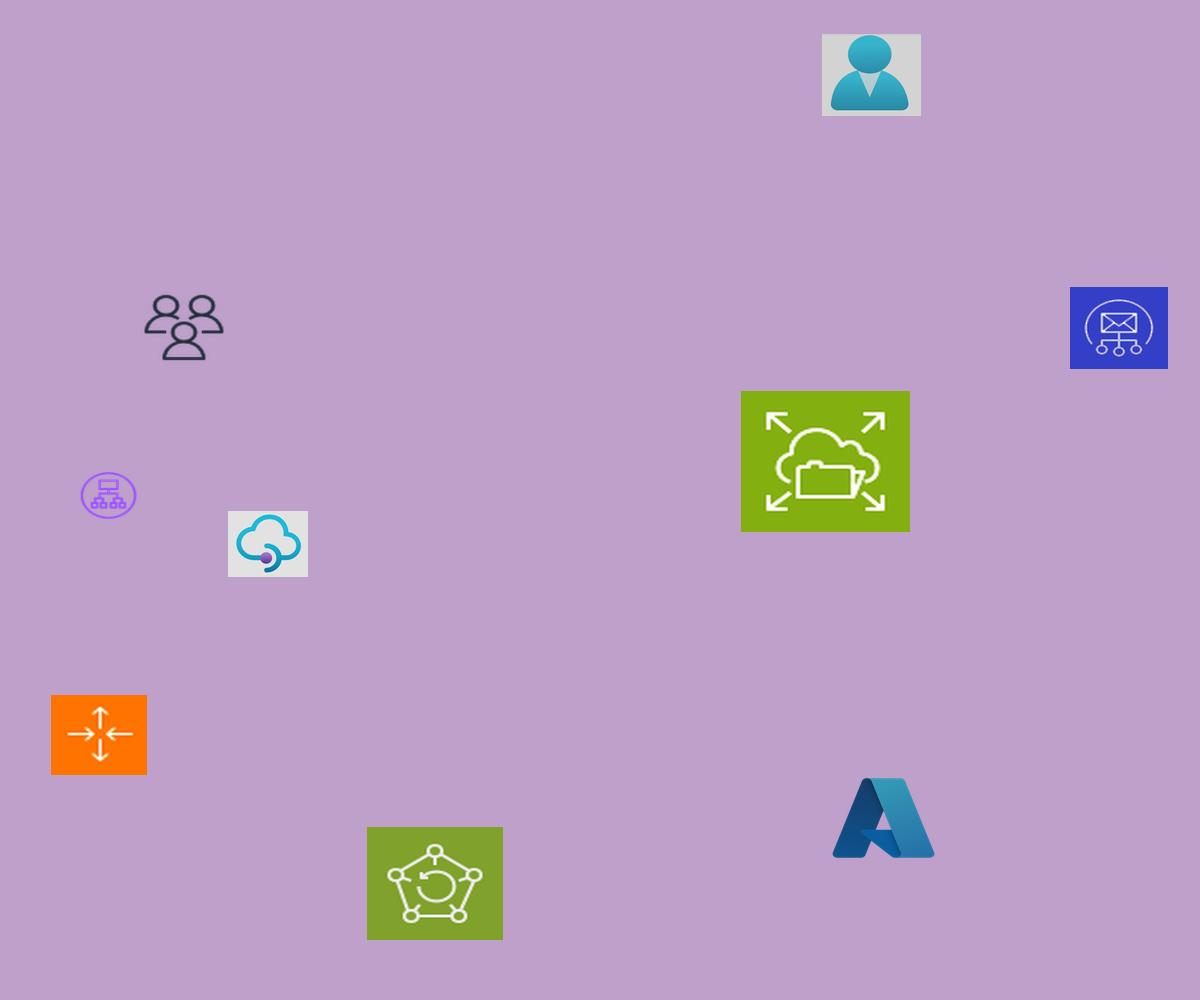AWS-Backup: (367, 827, 503, 940)
AWS-EFS: (741, 391, 910, 532)
AWS-Res_Elastic-Load-Balancing_Application-Load-Balancer: (78, 470, 139, 521)
AWS-Res_Users: (141, 292, 227, 363)
AWS-Scaling-group: (51, 695, 147, 775)
AWS-Simple-Email-Service: (1070, 287, 1168, 369)
Azure_api_gateway: (228, 511, 308, 577)
Azure_services: (828, 772, 939, 864)
Azure_users: (822, 34, 921, 116)
